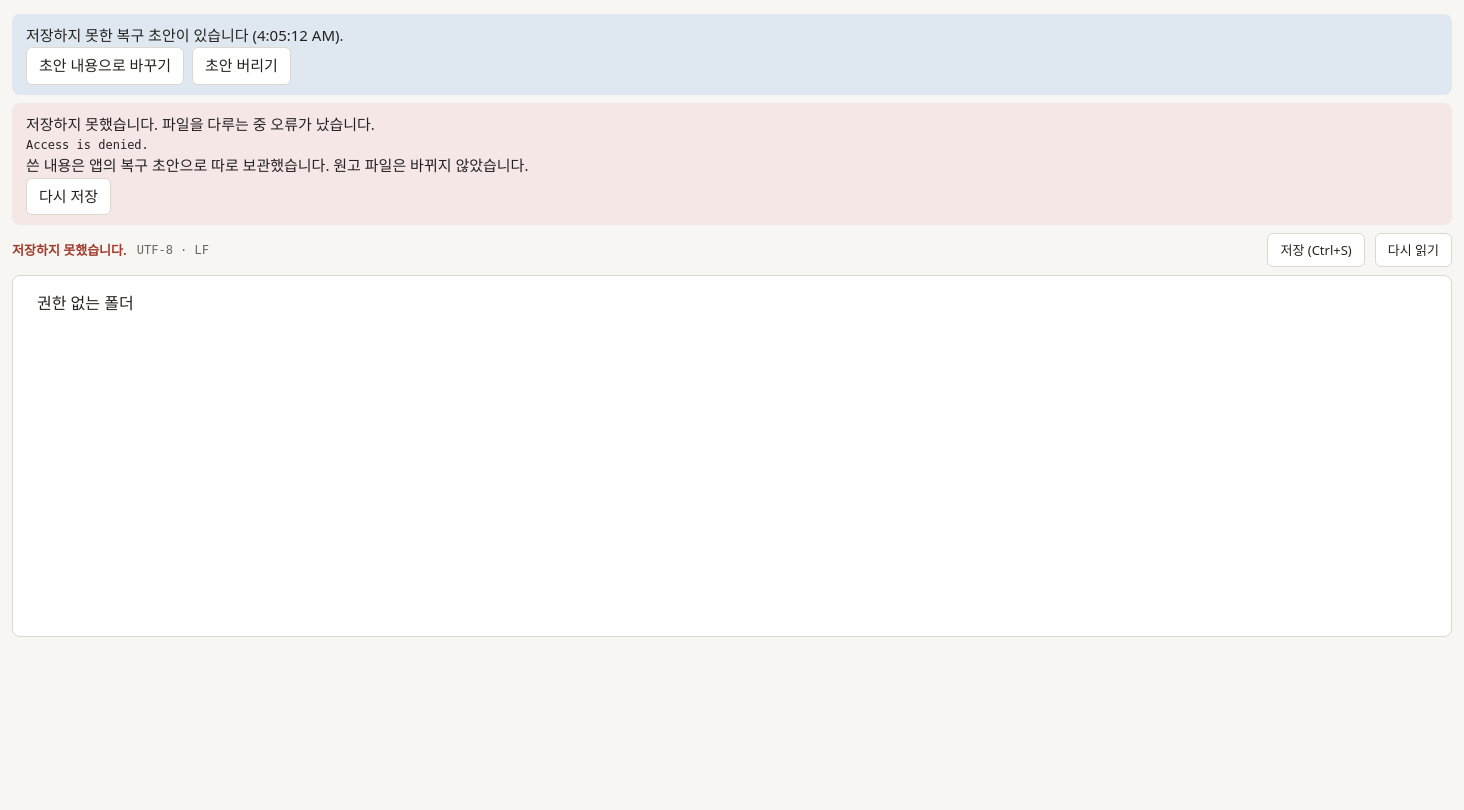
Test: built-in editor › a failed save keeps a draft, says so, and 'save again' recovers
This screenshot has width=1464, height=810.
Check: the text "쓴 내용은 앱의 복구 초안으로 따로 보관했습니다. 원고 파일은 바뀌지 않았습니다." is shown, box x1=26 y1=155 x2=528 y2=175
Click the button "다시 저장".
click(69, 196)  # box x1=26 y1=178 x2=111 y2=215
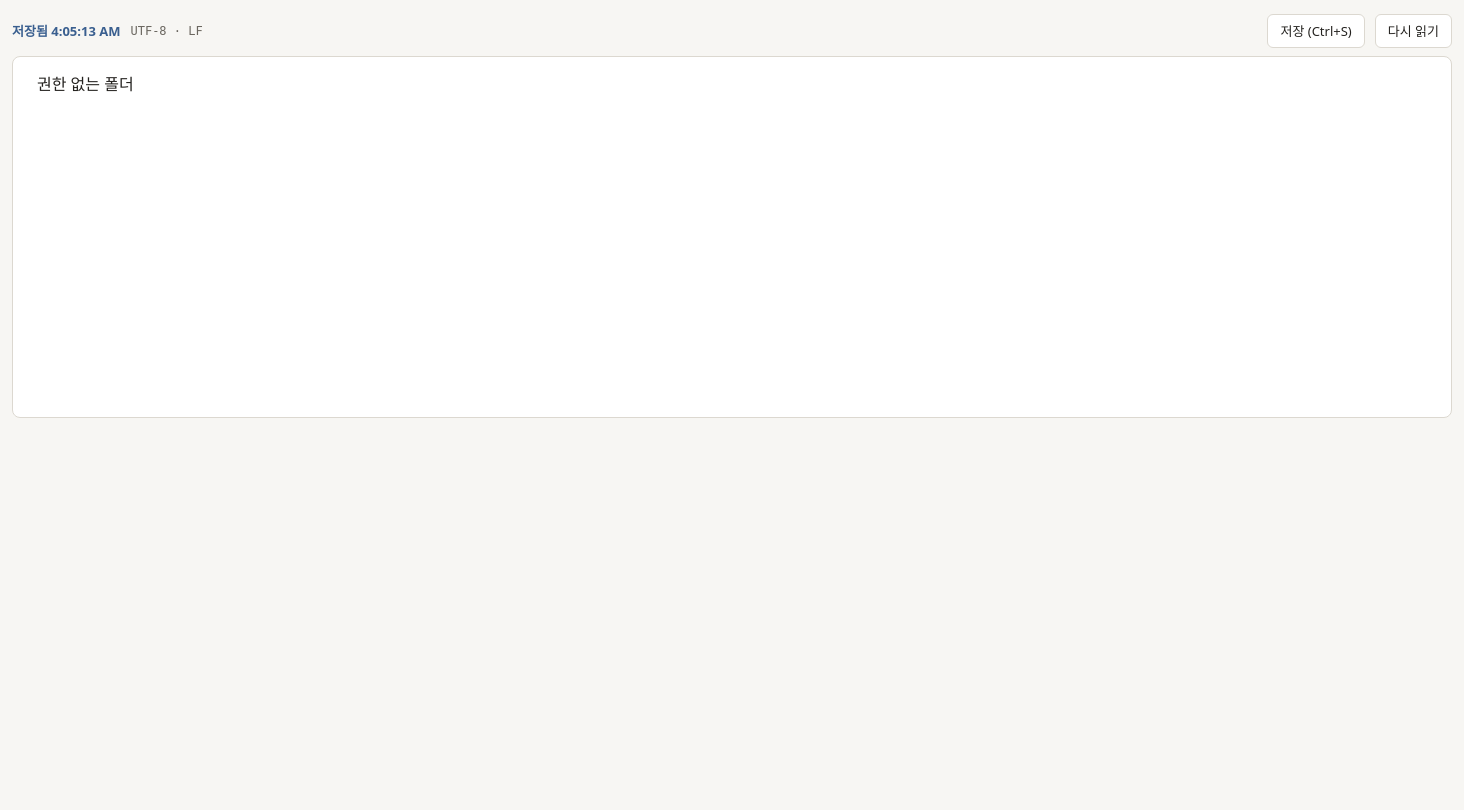
Check: the text with test id "save-state" shows "저장됨", box x1=12 y1=22 x2=120 y2=40
